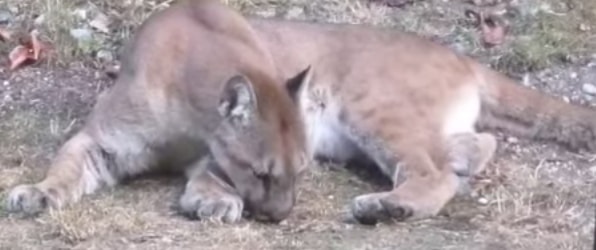Mountain Lion: (17, 9, 533, 239)
